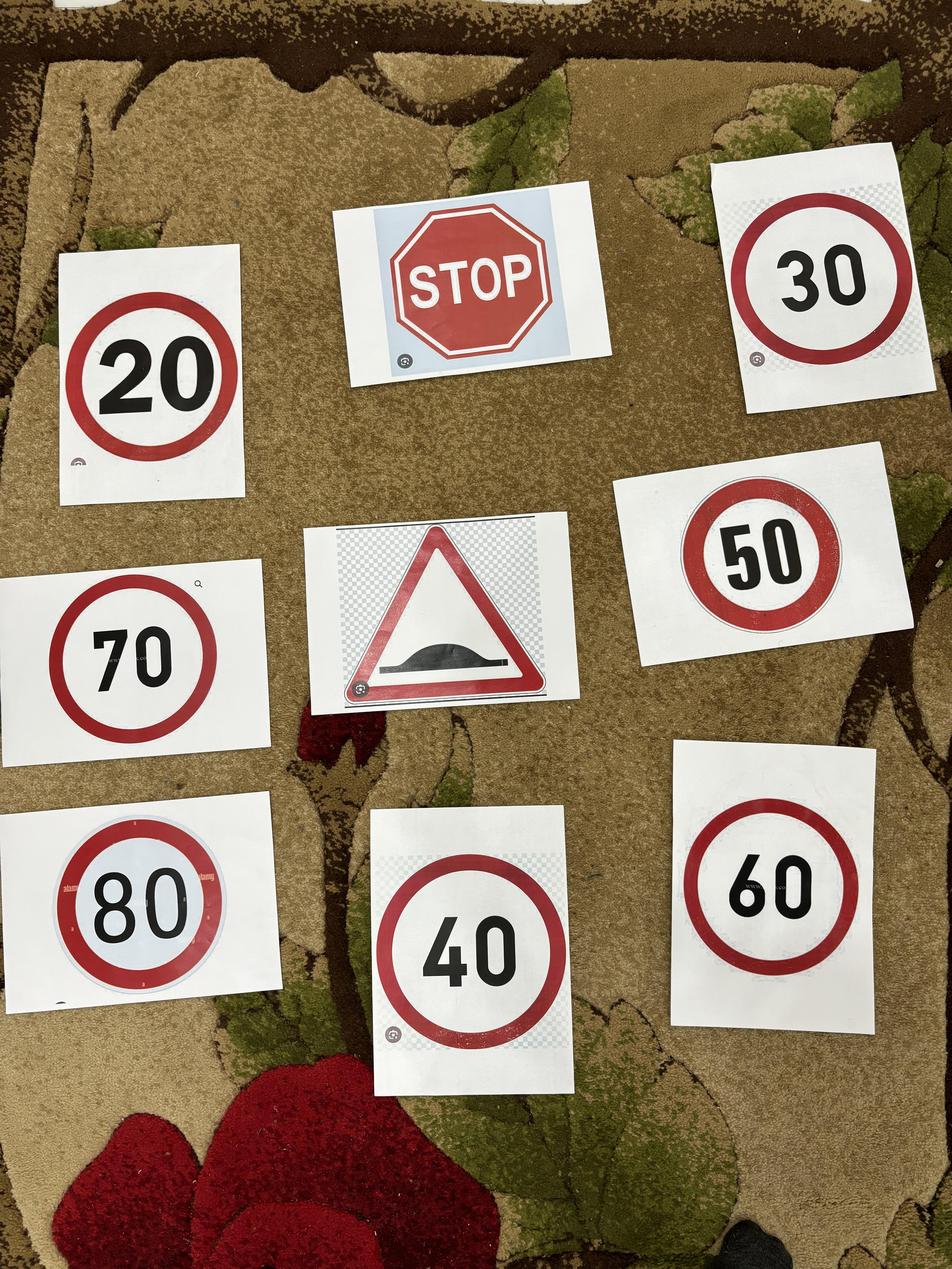20-Speed: (63, 291, 245, 467)
30-speed: (728, 183, 918, 365)
40-Speed: (378, 856, 567, 1055)
50-Speed: (683, 478, 849, 634)
60-Speed: (683, 796, 869, 984)
70-Speed: (43, 574, 225, 751)
80-Speed: (49, 814, 232, 991)
Hump: (342, 527, 545, 710)
Stop: (385, 203, 565, 367)
